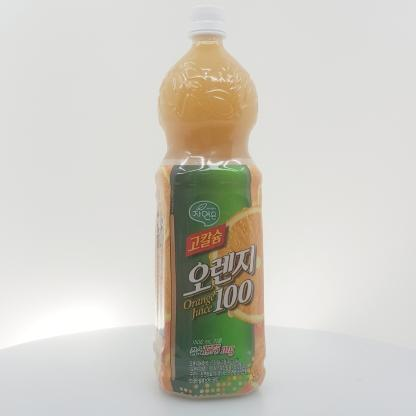--------1-5L: (153, 5, 266, 399)
